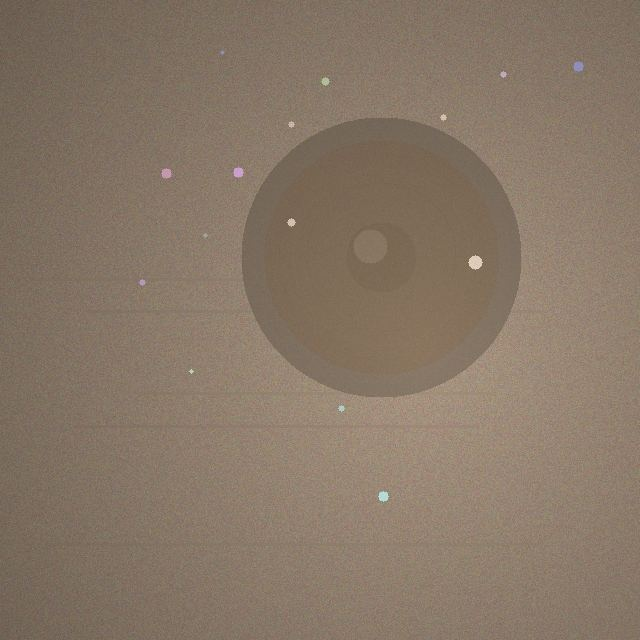overburn: (241, 117, 521, 397)
